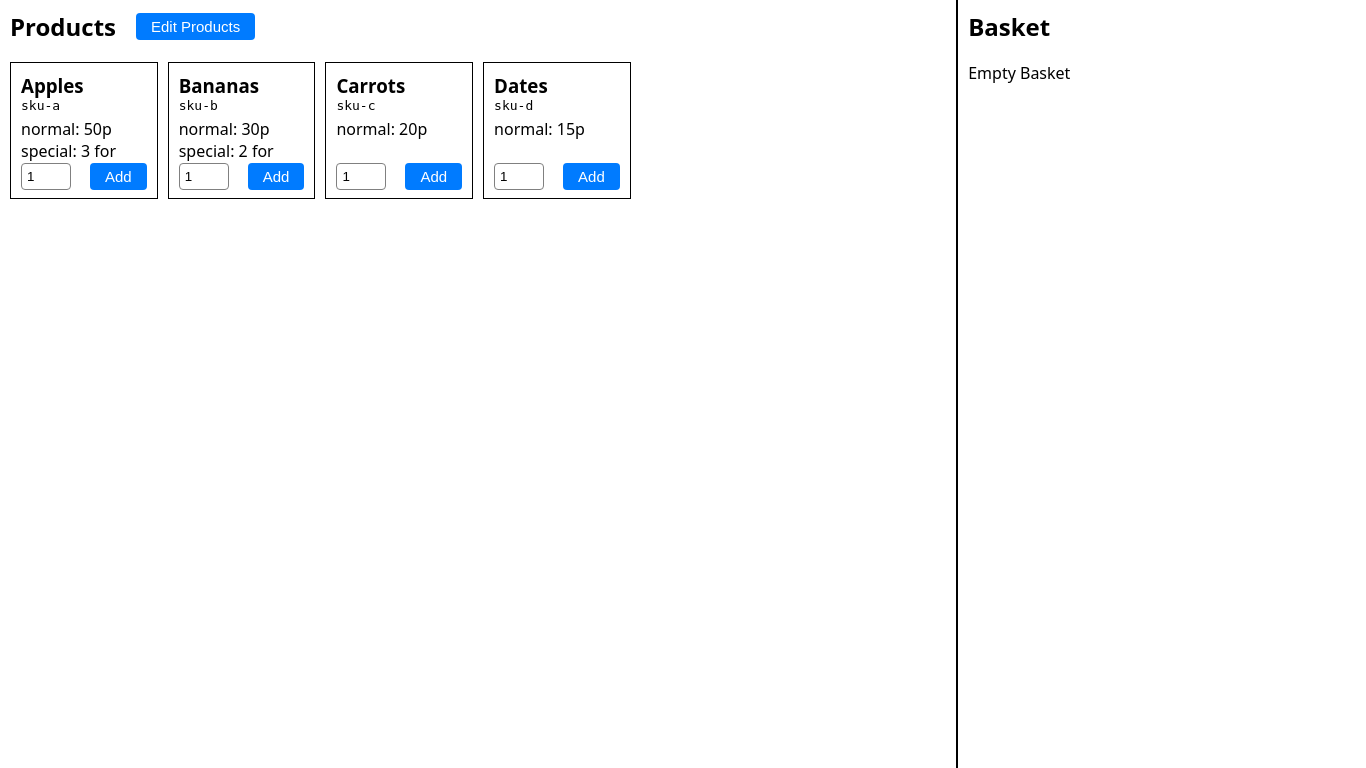
it: Shopping website › basket › Clear removes all items from basket
Click the button "Add" in the row of "130".
click(119, 177)  # box [90,163,147,190]
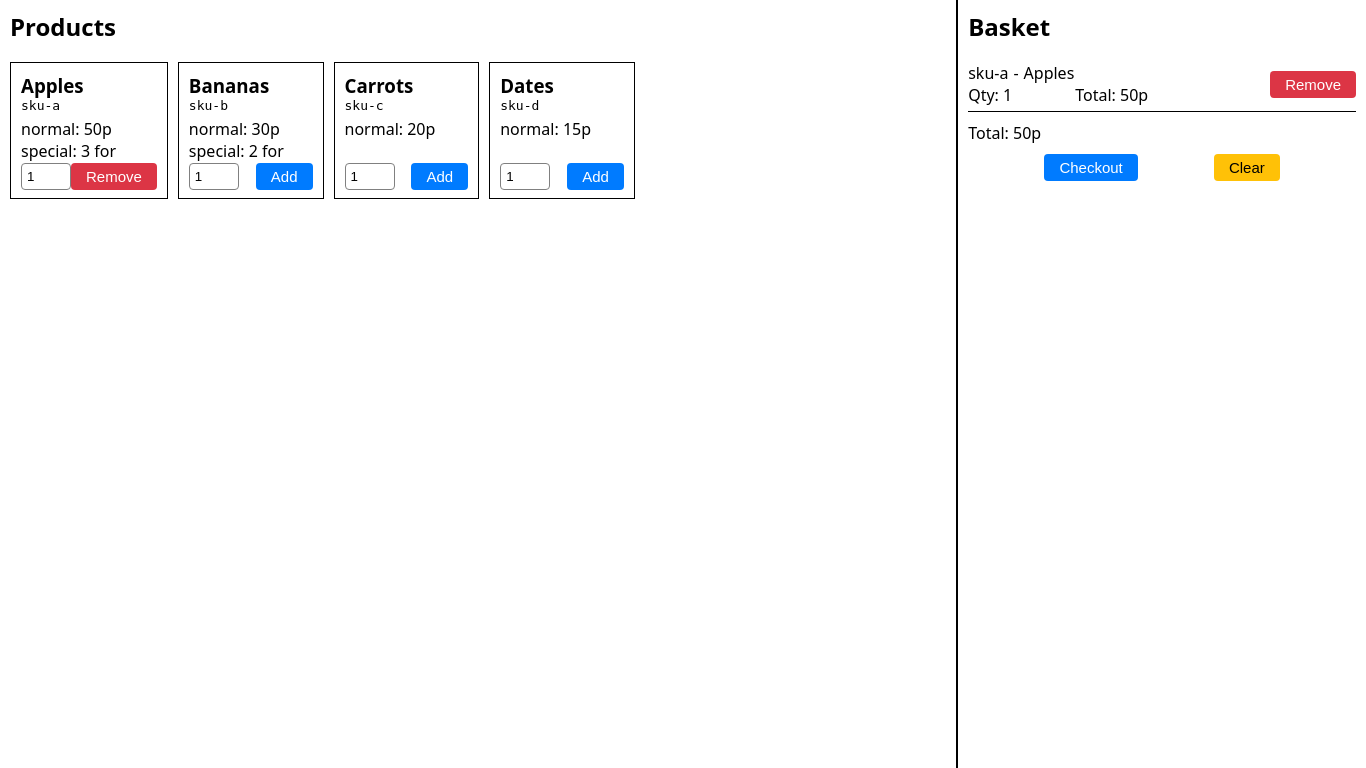
Expected: the text with class "items" no longer shows "Empty Basket"
Expected: the element showing "sku-a - apples Qty: 1 Total: 50p Remove" is shown, [968,62,1356,112]
Click the button with class "warning".
click(1247, 168)  # box [1214,154,1280,181]
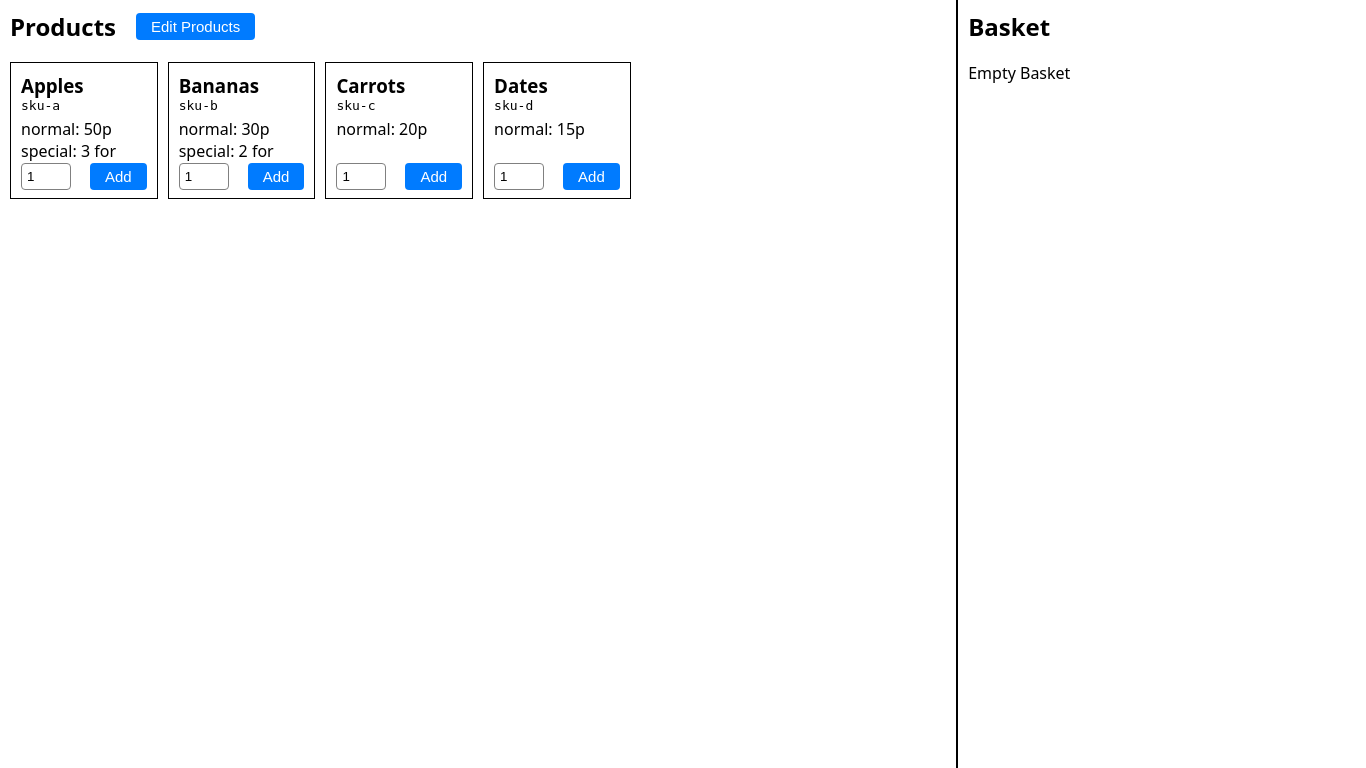
Expected: the element with class "items" reads "Empty Basket", [968,62,1070,84]
